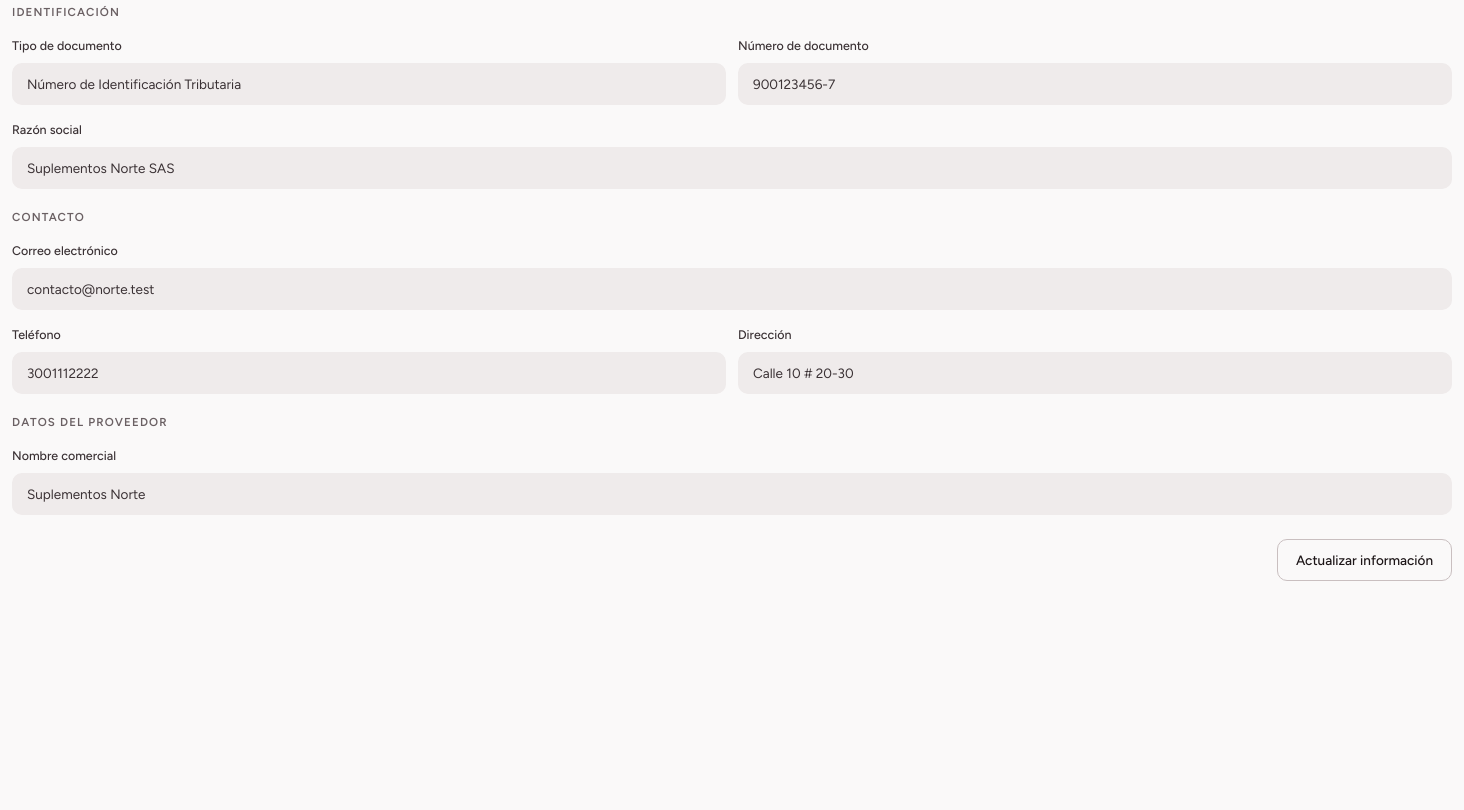
Test: SupplierDataForm preloaded fields › preloads every person field of a company
Click the button "Actualizar información" at [1364, 560], box left=1277, top=539, right=1452, bottom=581
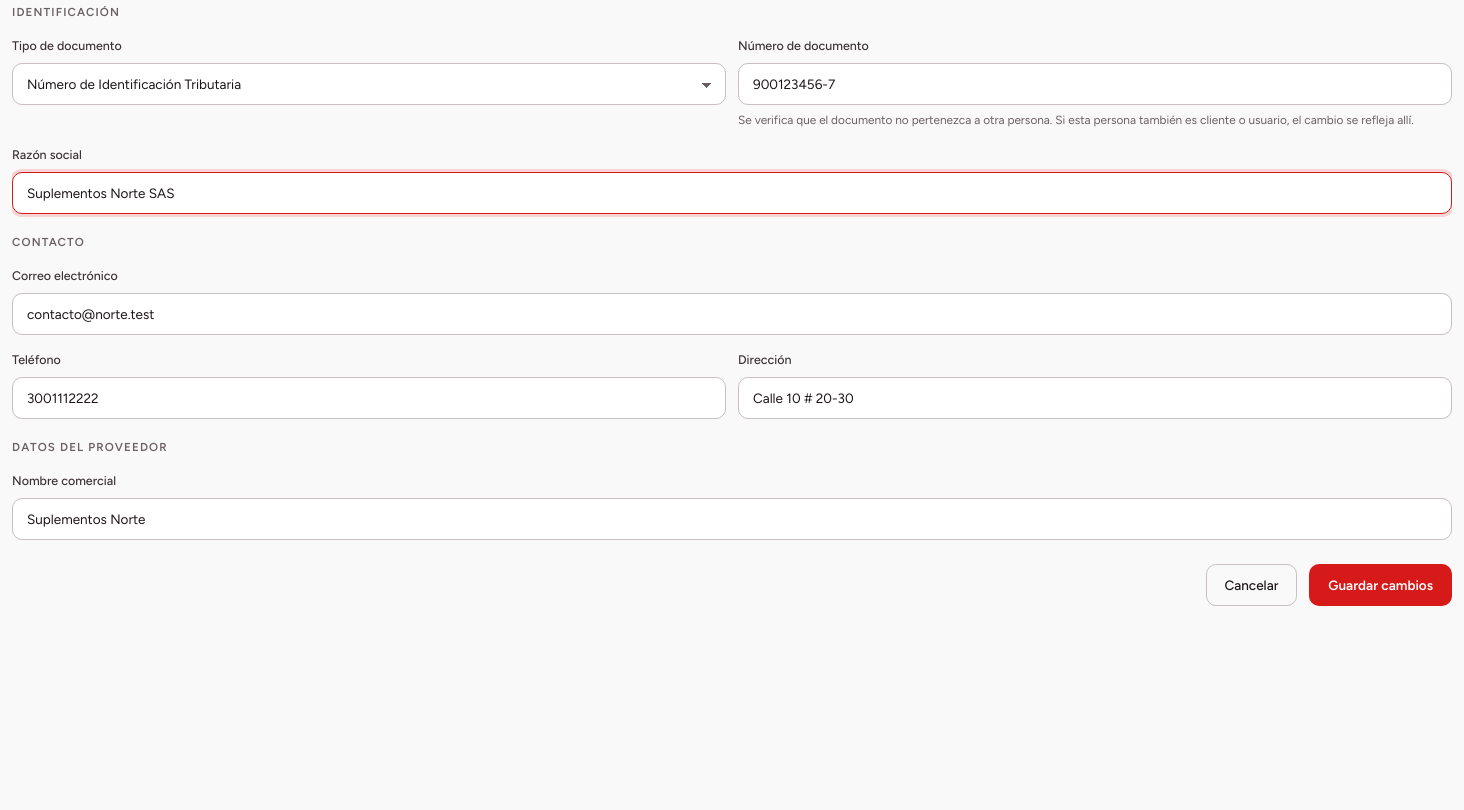
Check: the field labelled "Número de documento" holds "900123456-7", box left=738, top=63, right=1452, bottom=105
Check: the dropdown labelled "Tipo de documento" shows "Número de Identificación Tributaria", box left=12, top=63, right=726, bottom=105
